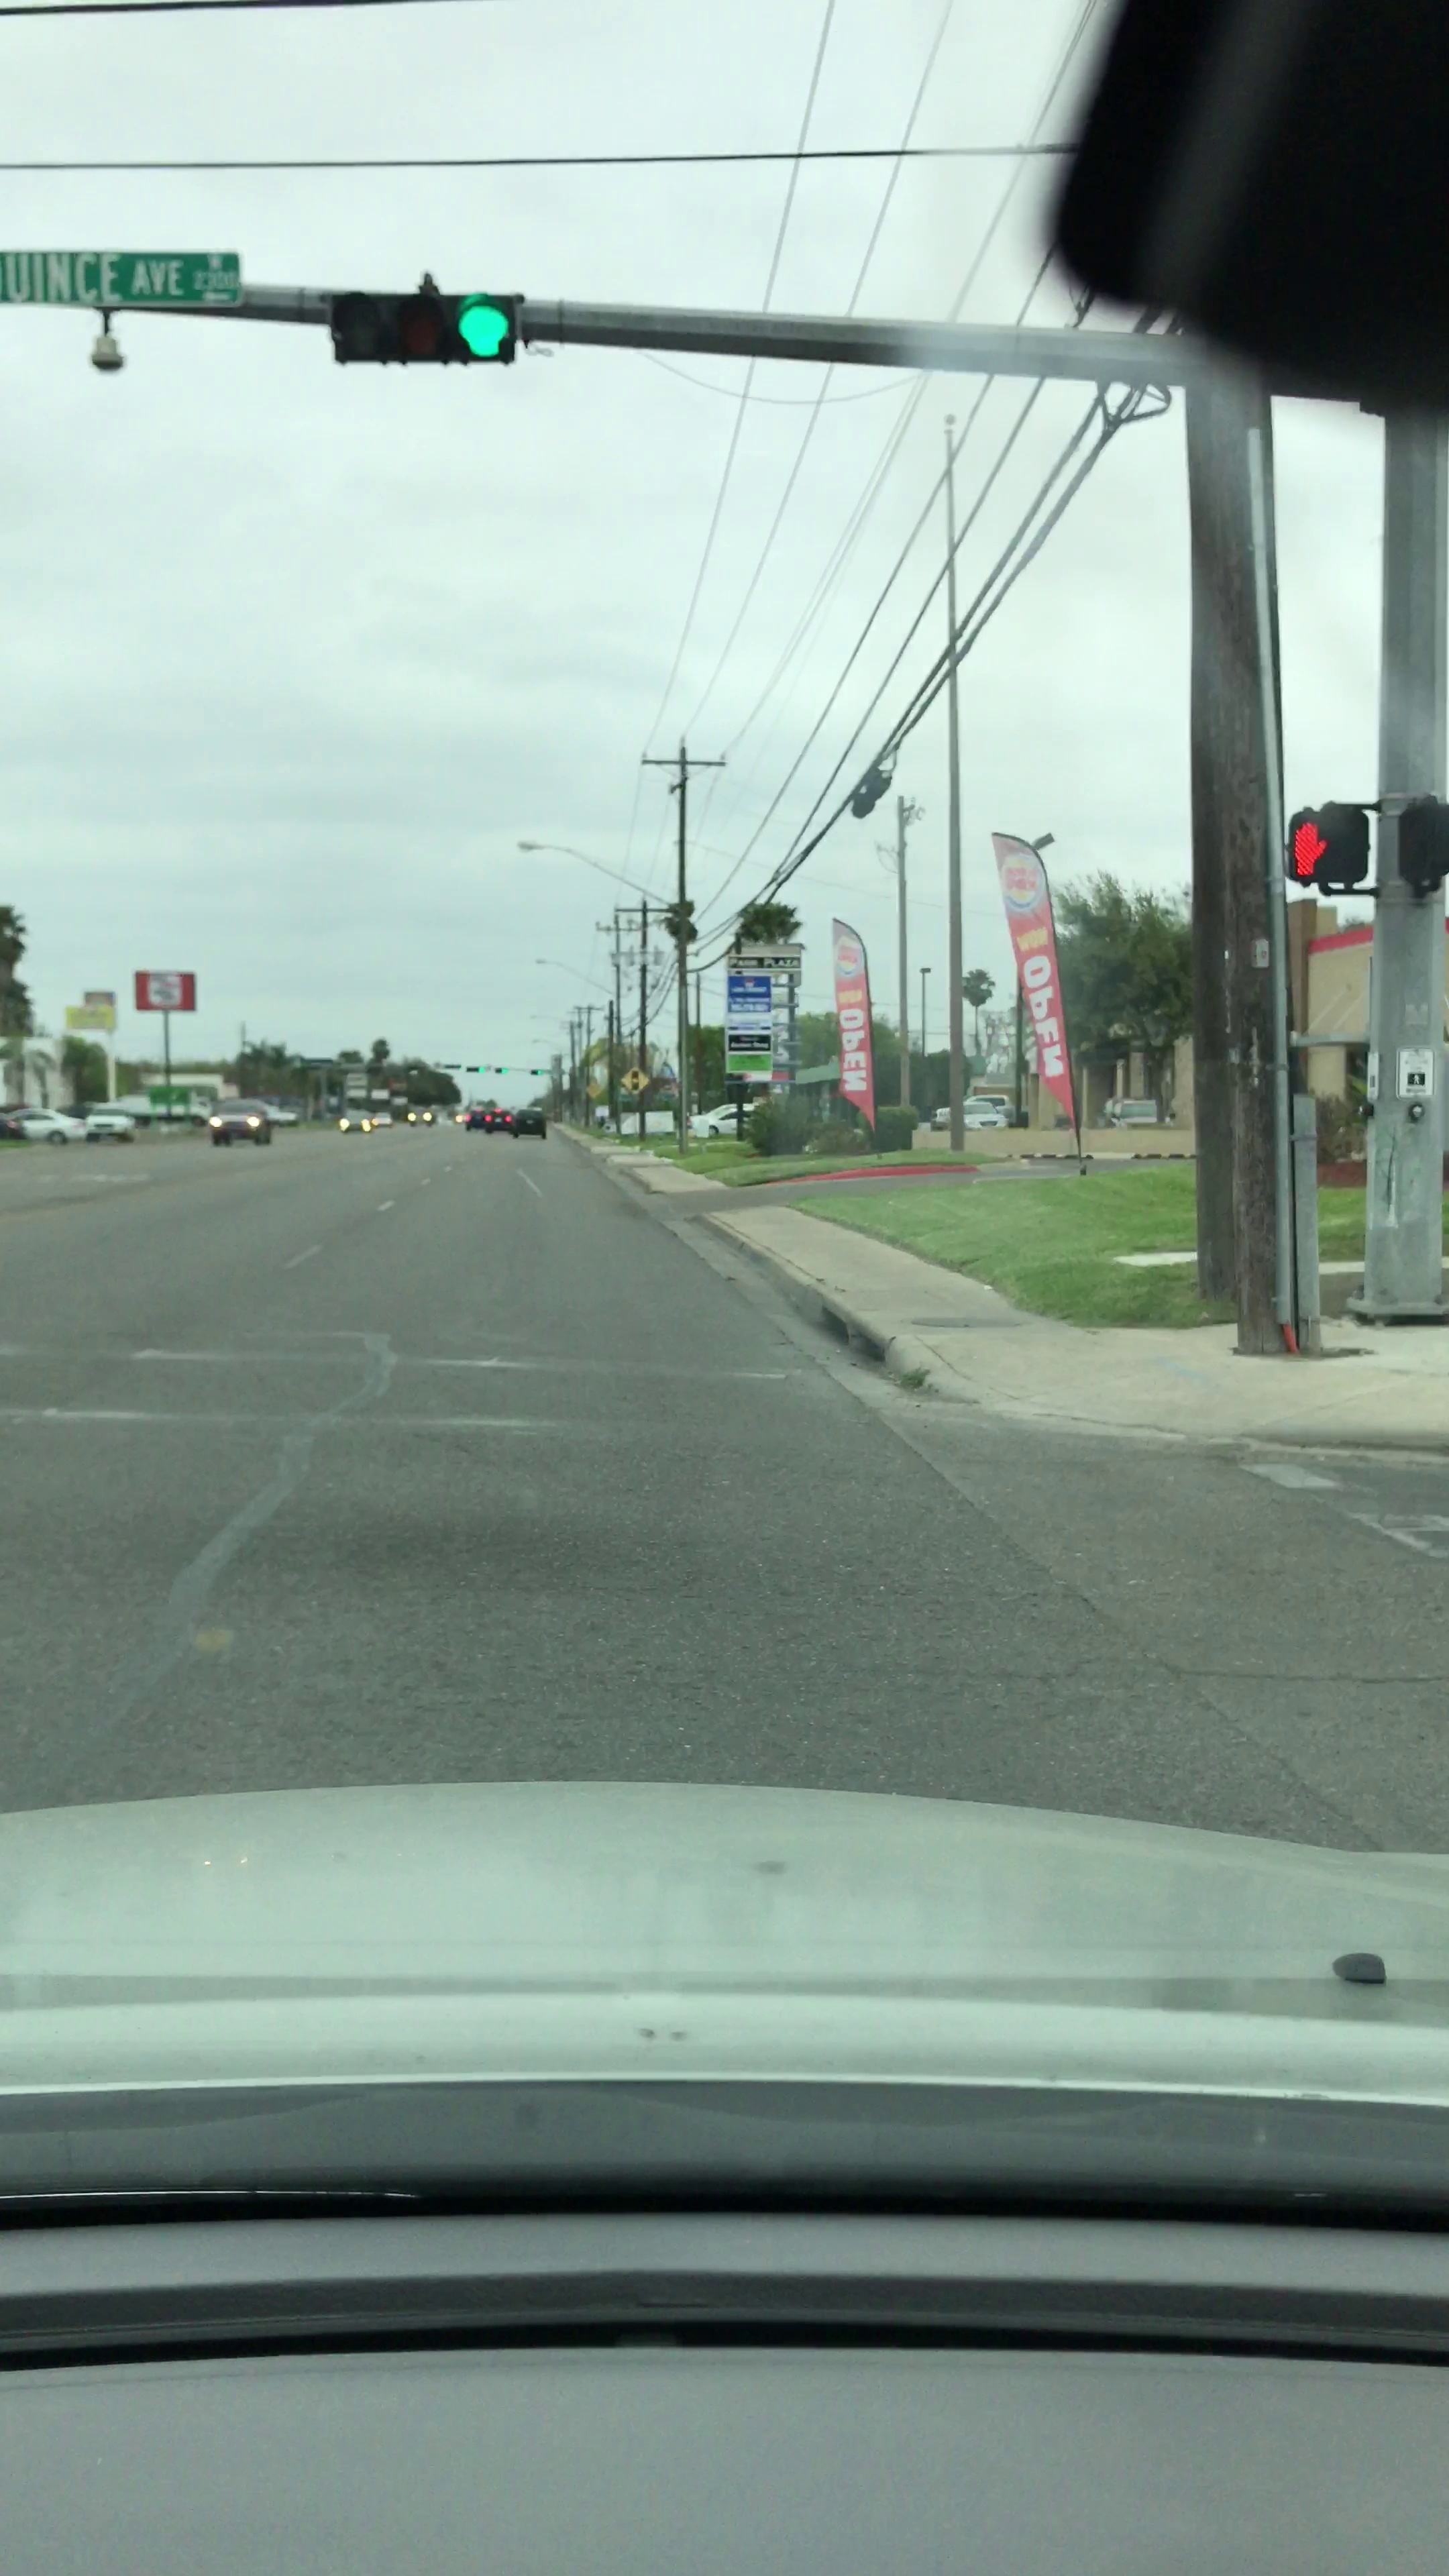blurredLine: (0, 1332, 883, 1449)
